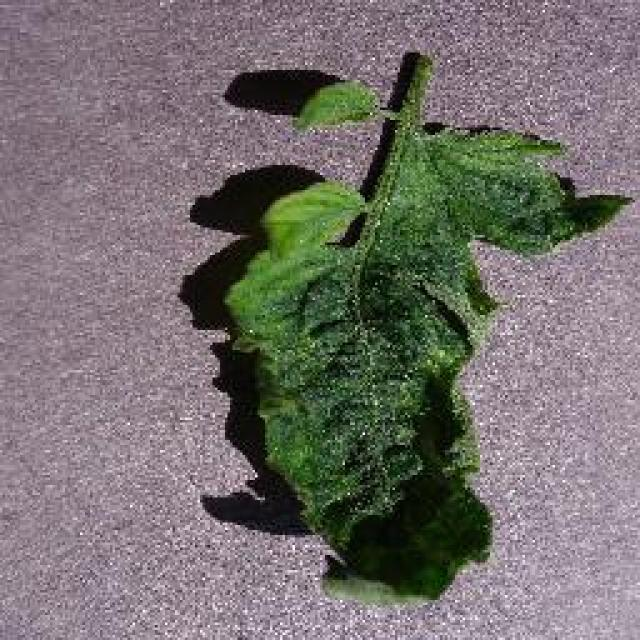Tomato spider mites leaf: (226, 120, 632, 612)
